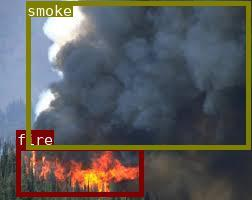fire: (16, 145, 142, 196)
smoke: (25, 0, 250, 149)
